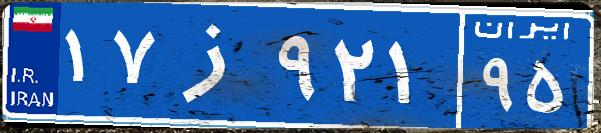1: (385, 28, 445, 110), (57, 26, 110, 107)
2: (330, 28, 385, 110)
5: (525, 38, 570, 115)
7: (110, 28, 158, 105)
9: (273, 28, 330, 110), (475, 38, 525, 113)
ز: (158, 15, 273, 115)
